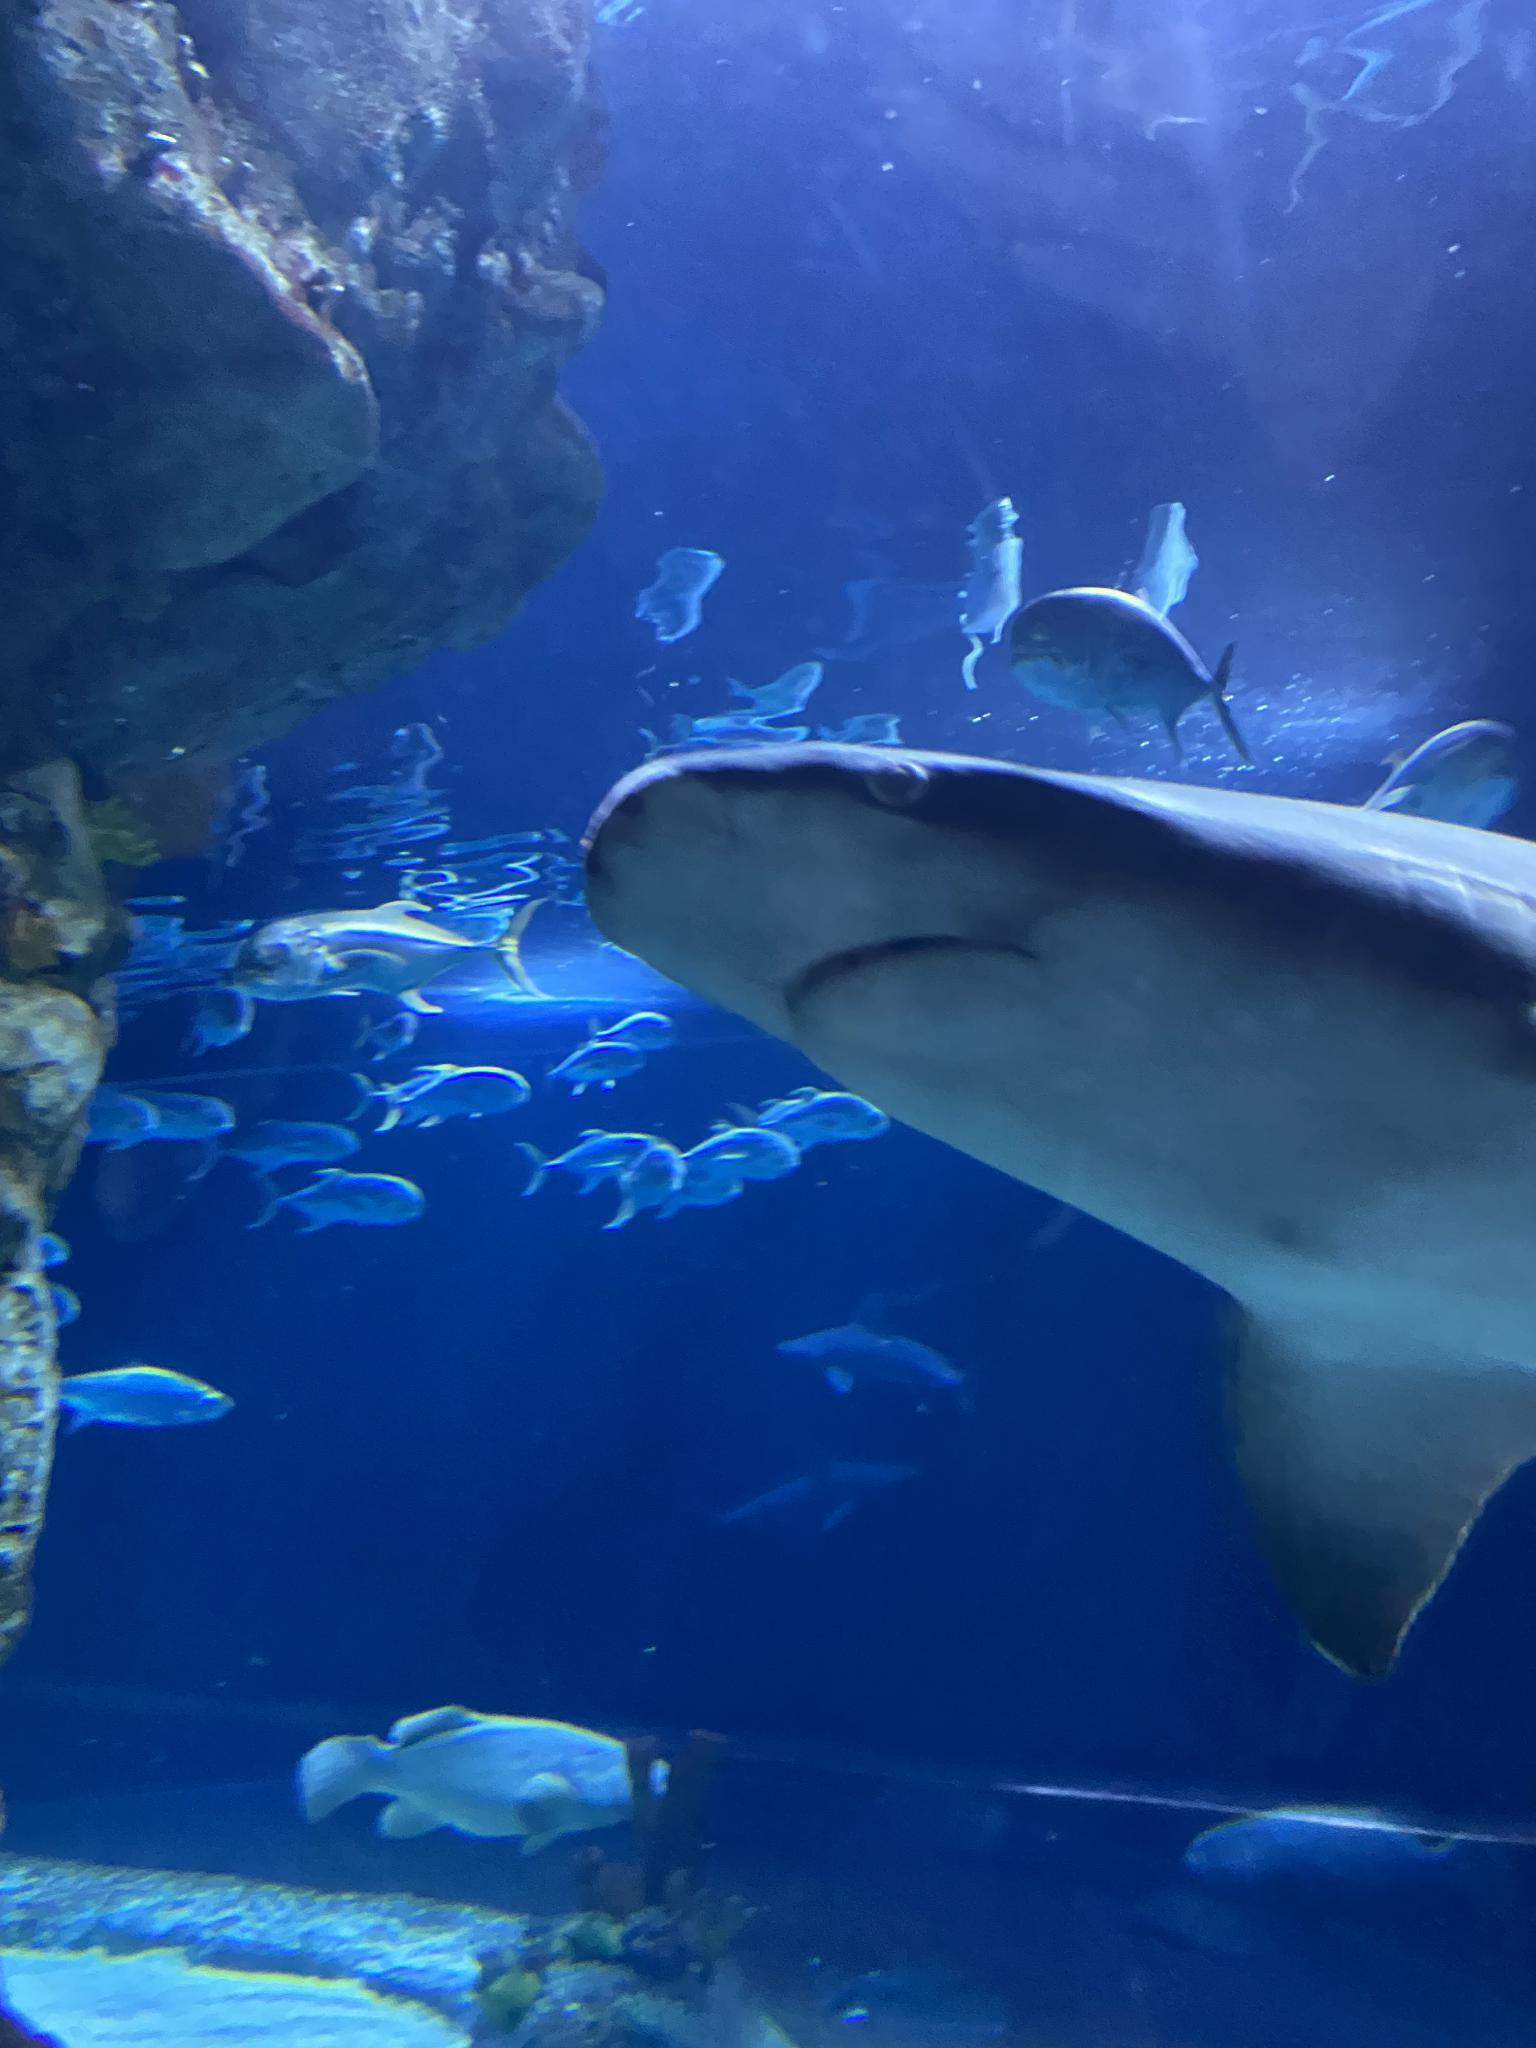fish: (303, 1708, 671, 1863), (1012, 576, 1250, 766), (1181, 1801, 1504, 1942), (229, 897, 547, 1019), (1365, 714, 1531, 834), (60, 1364, 234, 1443), (182, 1119, 358, 1185), (245, 1171, 424, 1235), (516, 1130, 668, 1201), (374, 1066, 526, 1130), (728, 1089, 891, 1140), (599, 1143, 682, 1232), (686, 1122, 802, 1184), (347, 1066, 453, 1124), (542, 1040, 647, 1098), (182, 985, 250, 1056), (148, 1090, 236, 1140), (81, 1092, 160, 1147), (586, 1013, 678, 1056), (353, 1013, 419, 1061)
shark: (587, 727, 1534, 1687), (768, 1292, 978, 1419), (715, 1450, 928, 1538)
